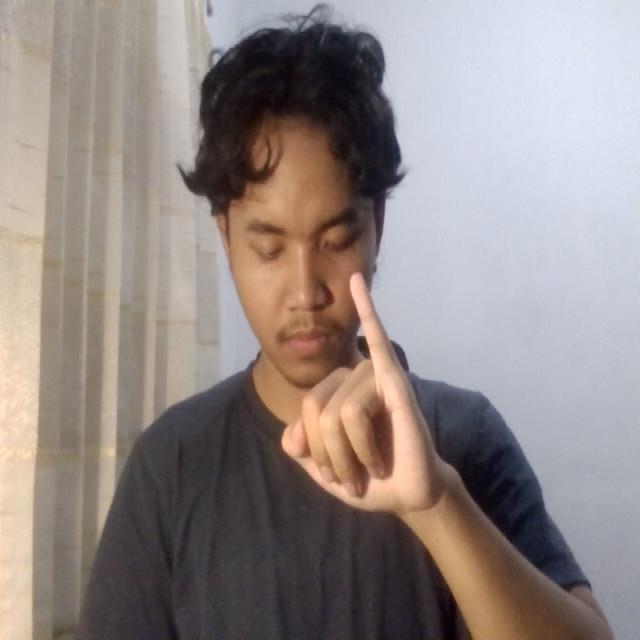Hello: (267, 257, 463, 543)
